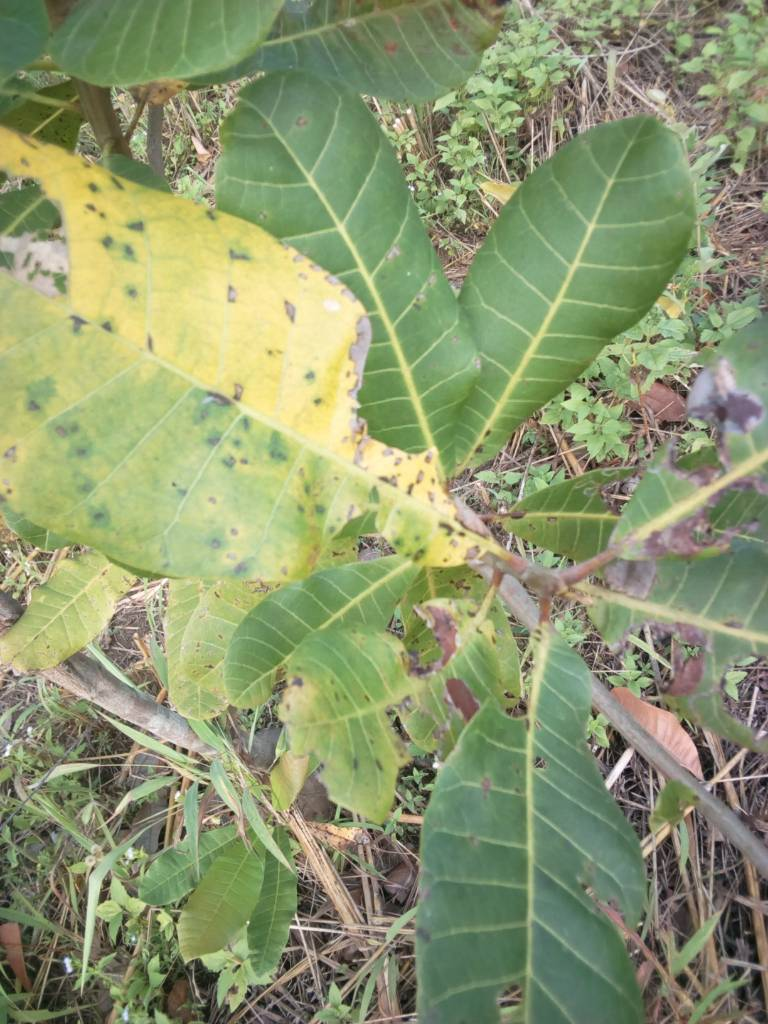Bactériose: (1, 164, 493, 578), (272, 597, 521, 810), (611, 350, 761, 569)
